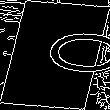O_W: (5, 30, 105, 80)
